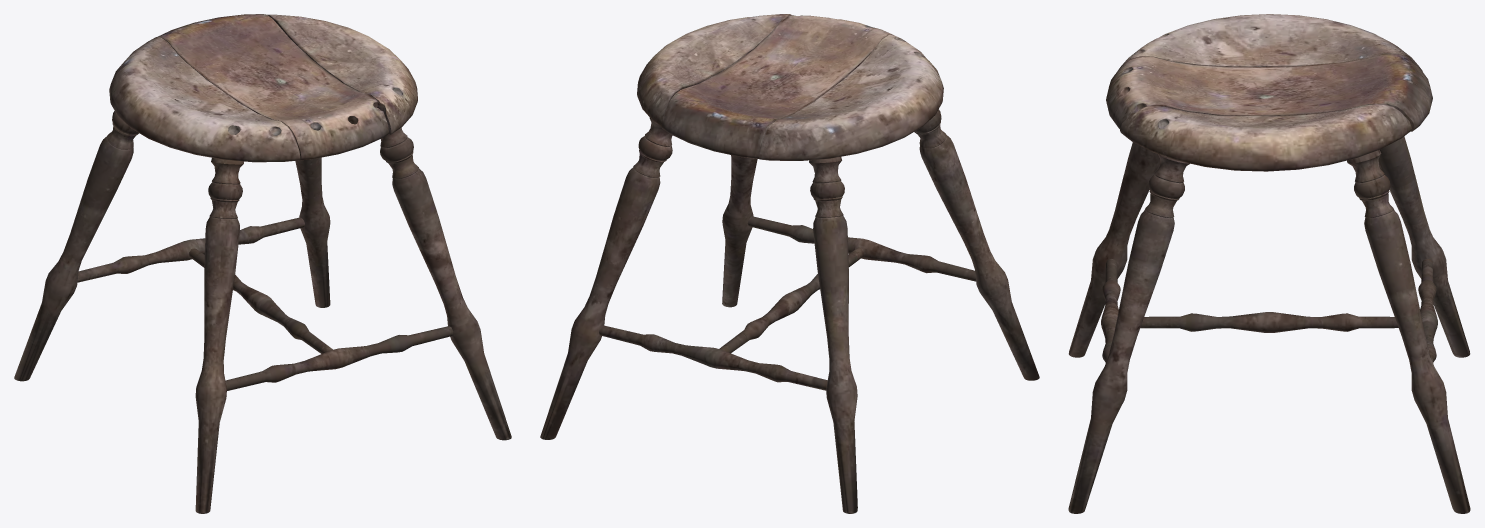
File: wooden_stool_01.glb
3 views of the same model, side by side, from view 1: azimuth 30°, elevation 25°; view 2: azimuth 150°, elevation 25°; view 3: azimuth 270°, elevation 25° (orthographic). The views are drawn at different scales.
Visible parts, largest first — view 1: wooden_stool_01; view 2: wooden_stool_01; view 3: wooden_stool_01.
Boxes of the visible parts, x1,y1,x2,y2 form: wooden_stool_01: (14,14,511,513); wooden_stool_01: (540,14,1039,513); wooden_stool_01: (1068,14,1470,513).
Bounding box in the file's own units: 0.4246 × 0.4373 × 0.4424.
Materials: 1 (1 with a texture image).
